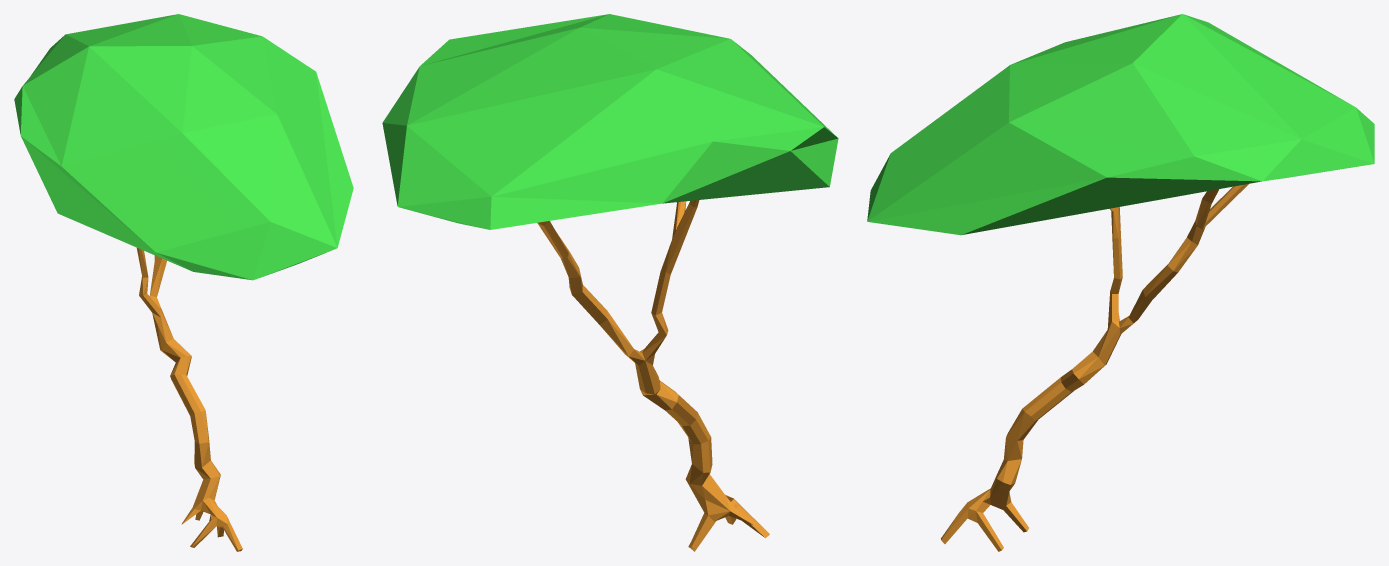
The model's file is bendyTree.fbx.
3 renders of one model, left to right at view 1: azimuth 30°, elevation 25°; view 2: azimuth 150°, elevation 25°; view 3: azimuth 270°, elevation 25°, orthographic. The views are drawn at different scales.
Visible parts, largest first — view 1: leaves, branch; view 2: leaves, branch; view 3: leaves, branch.
Part boxes in pixels (x1,y1,x2,y2): leaves: [14, 14, 353, 280]; branch: [136, 248, 242, 551]; leaves: [382, 14, 838, 229]; branch: [537, 200, 769, 551]; leaves: [867, 14, 1374, 235]; branch: [941, 184, 1248, 551].
Bounding box in the file's own units: 812 × 1232 × 1114.
